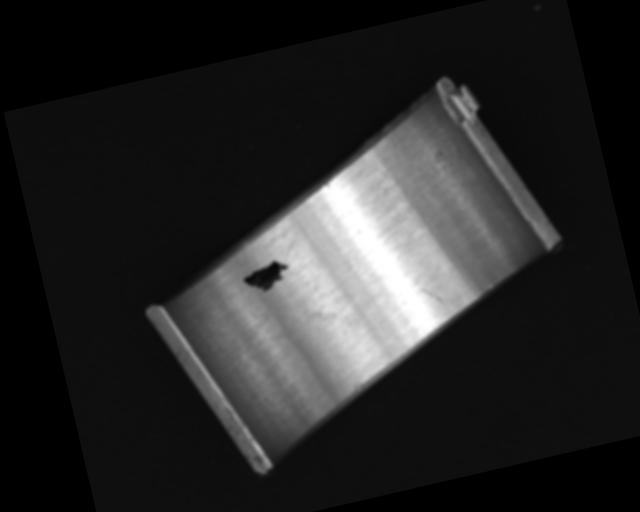blot: (271, 286, 339, 333), (239, 255, 294, 297)
bruise: (351, 382, 362, 393), (323, 180, 333, 190)
nick: (419, 281, 458, 323)
